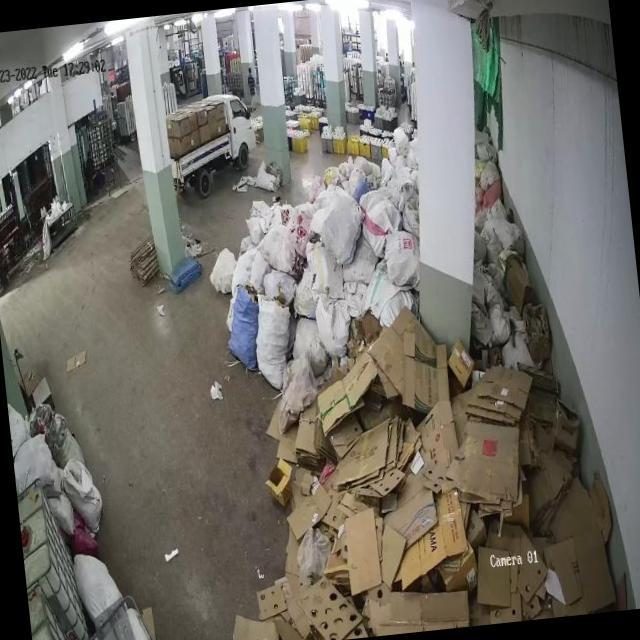person: (241, 59, 258, 100)
